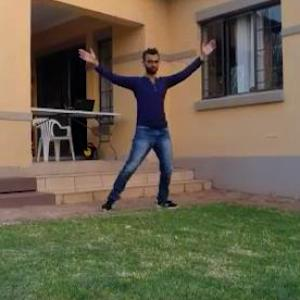takeoff: (77, 39, 216, 216)
